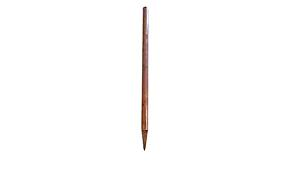stumps: (138, 4, 151, 153)
